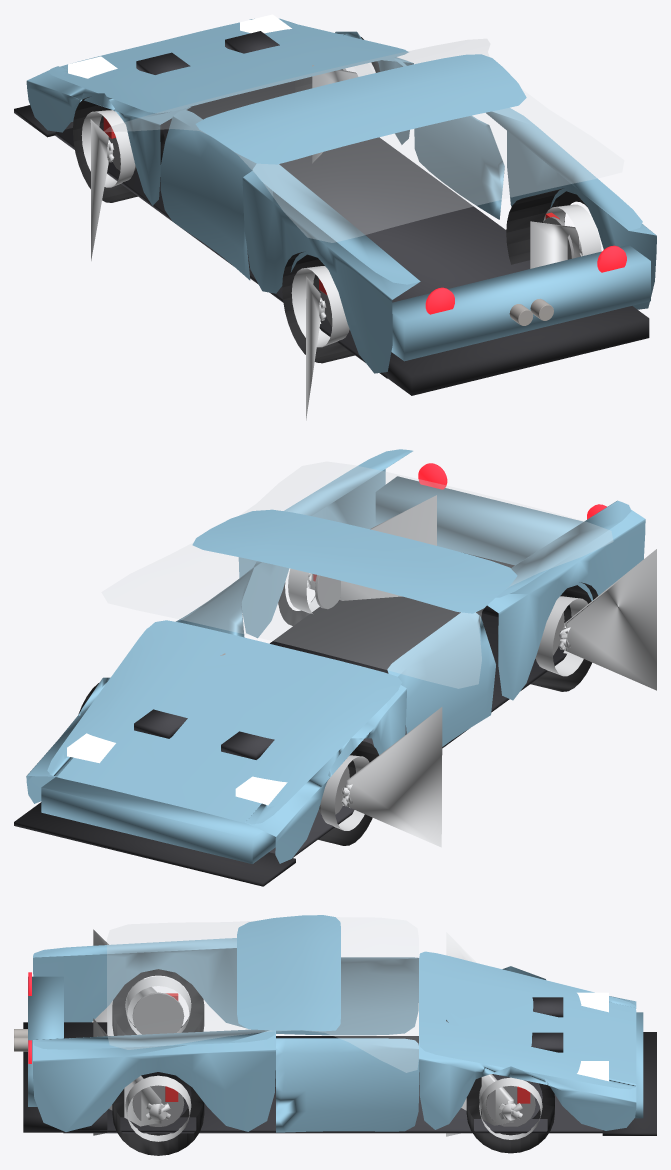
Rendered from Car_Ford_GT_2005_2000s.glb.
3 views of the same model, one above another, from view 1: azimuth 30°, elevation 25°; view 2: azimuth 150°, elevation 25°; view 3: azimuth 270°, elevation 25° (orthographic). The views are drawn at different scales.
Visible parts, largest first — view 1: GLASS_Canopy, BODY_Rear_Quarters, PLATFORM_Underbody, BODY_Roof_Panel, BODY_Doors, BODY_Hood, BODY_Rear_Fascia, AERO_Rear_Diffuser, BODY_Front_Fenders, WHEEL_RR_Rim, WHEEL_FR_Rim, WHEEL_RL_Rim (+8 smaller); view 2: GLASS_Canopy, BODY_Hood, BODY_Rear_Quarters, BODY_Roof_Panel, BODY_Doors, PLATFORM_Underbody, WHEEL_RR_Rim, WHEEL_FR_Rim, BODY_Front_Fascia, BODY_Rear_Fascia, BODY_Front_Fenders, AERO_Front_Splitter (+7 smaller); view 3: BODY_Rear_Quarters, GLASS_Canopy, BODY_Doors, BODY_Hood, BODY_Roof_Panel, BODY_Front_Fenders, PLATFORM_Underbody, BODY_Rear_Fascia, WHEEL_RL_Rim, WHEEL_FL_Tire, WHEEL_FL_Rim, WHEEL_RL_Tire (+11 smaller).
Boxes of the visible parts, x1,y1,x2,y2 form: GLASS_Canopy: [104, 39, 623, 242]; BODY_Rear_Quarters: [242, 107, 656, 373]; PLATFORM_Underbody: [55, 81, 530, 378]; BODY_Roof_Panel: [195, 54, 526, 164]; BODY_Doors: [160, 58, 504, 280]; BODY_Hood: [48, 21, 408, 113]; BODY_Rear_Fascia: [391, 245, 650, 361]; AERO_Rear_Diffuser: [384, 306, 649, 395]; BODY_Front_Fenders: [26, 18, 413, 205]; WHEEL_RR_Rim: [291, 266, 349, 420]; WHEEL_FR_Rim: [81, 110, 135, 260]; WHEEL_RL_Rim: [530, 204, 601, 268]; GLASS_Canopy: [101, 462, 613, 688]; BODY_Hood: [47, 620, 401, 824]; BODY_Rear_Quarters: [238, 449, 645, 700]; BODY_Roof_Panel: [192, 509, 517, 613]; BODY_Doors: [176, 561, 495, 746]; PLATFORM_Underbody: [269, 596, 566, 857]; WHEEL_RR_Rim: [535, 549, 656, 690]; WHEEL_FR_Rim: [320, 707, 442, 847]; BODY_Front_Fascia: [41, 777, 275, 863]; BODY_Rear_Fascia: [375, 476, 583, 565]; BODY_Front_Fenders: [26, 628, 406, 863]; AERO_Front_Splitter: [14, 802, 295, 886]; BODY_Rear_Quarters: [33, 938, 275, 1131]; GLASS_Canopy: [107, 917, 418, 1072]; BODY_Doors: [276, 957, 418, 1132]; BODY_Hood: [419, 951, 636, 1089]; BODY_Roof_Panel: [237, 915, 340, 1031]; BODY_Front_Fenders: [419, 958, 636, 1130]; PLATFORM_Underbody: [63, 1036, 602, 1133]; BODY_Rear_Fascia: [28, 976, 63, 1106]; WHEEL_RL_Rim: [93, 1018, 191, 1141]; WHEEL_FL_Tire: [466, 1077, 554, 1153]; WHEEL_FL_Rim: [446, 1020, 542, 1139]; WHEEL_RL_Tire: [112, 1086, 204, 1155].
Size of the model in its own units: 2.78 by 1.29 by 4.94.
